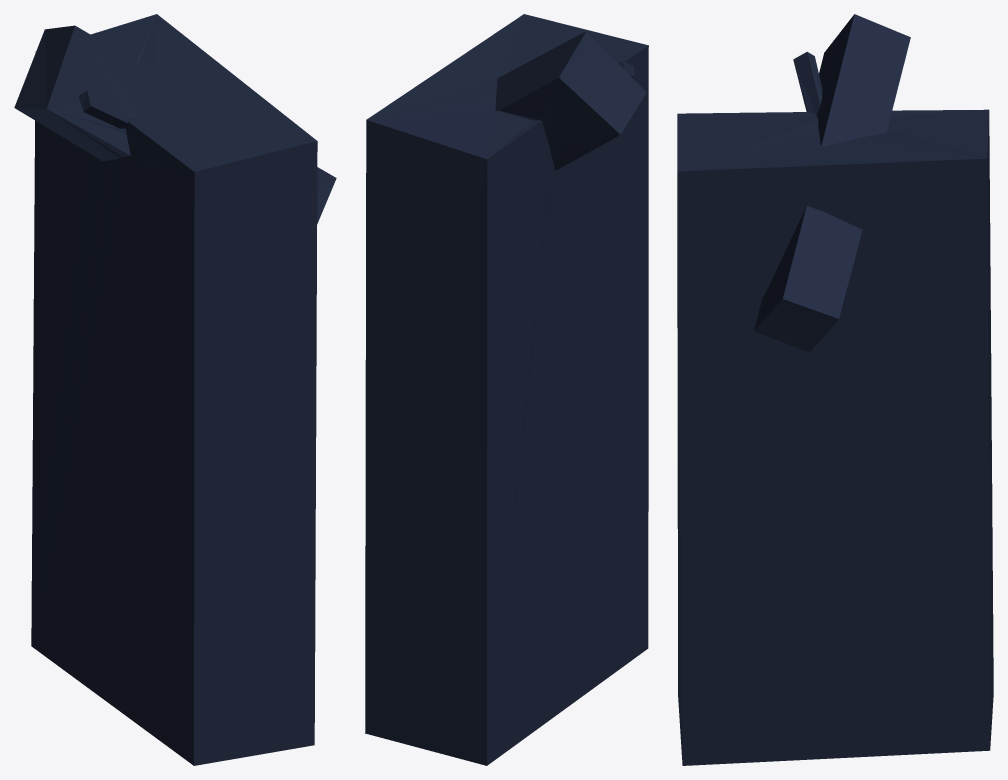
The picture shows the model from 3 angles, left to right: view 1: azimuth 30°, elevation 25°; view 2: azimuth 150°, elevation 25°; view 3: azimuth 270°, elevation 25°; orthographic projection. The views are drawn at different scales.
Visible parts, largest first — view 1: 978_Cube.3948; view 2: 978_Cube.3948; view 3: 978_Cube.3948.
Boxes of the visible parts, <box> form: 978_Cube.3948: <box>14,14,336,765</box>; 978_Cube.3948: <box>365,14,648,765</box>; 978_Cube.3948: <box>677,14,993,765</box>.
Size of the model in its own units: 5.66 by 13.75 by 5.81.
